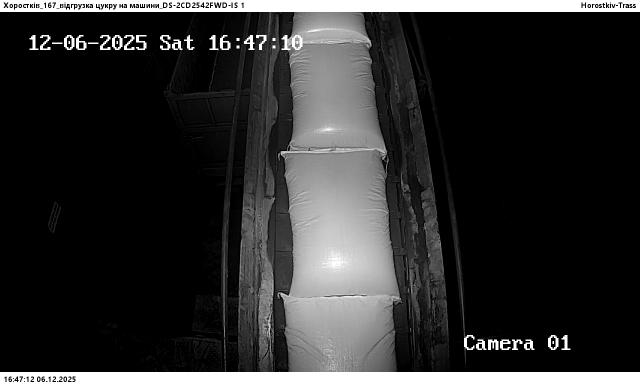bag: (279, 150, 399, 301), (288, 45, 387, 156), (278, 292, 399, 372), (288, 12, 371, 46)
